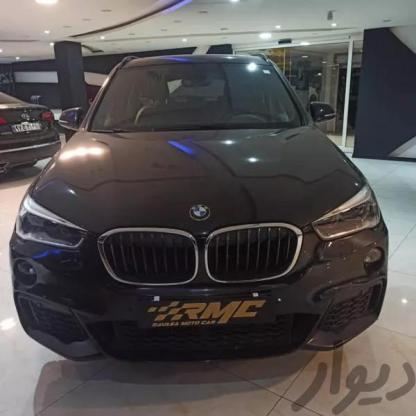Car: (10, 50, 396, 358), (0, 78, 55, 179)
